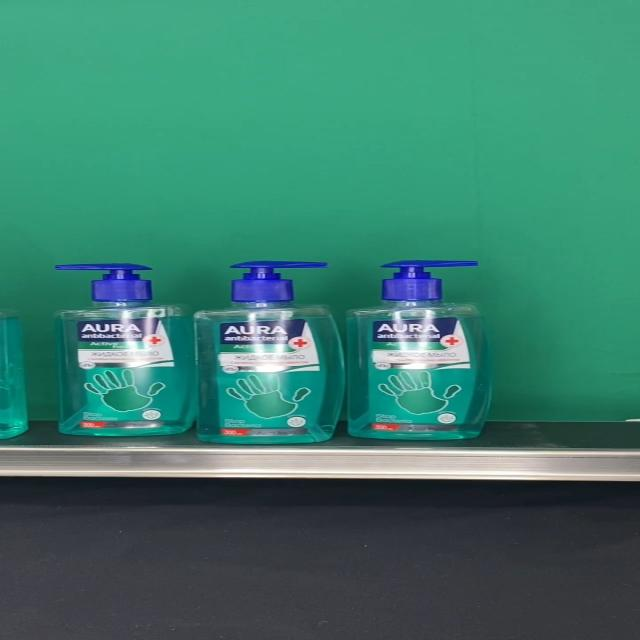Bottle: (194, 259, 344, 444), (346, 260, 492, 440), (53, 263, 201, 435)
Cap: (229, 260, 327, 302), (381, 260, 481, 300), (55, 263, 153, 301)
